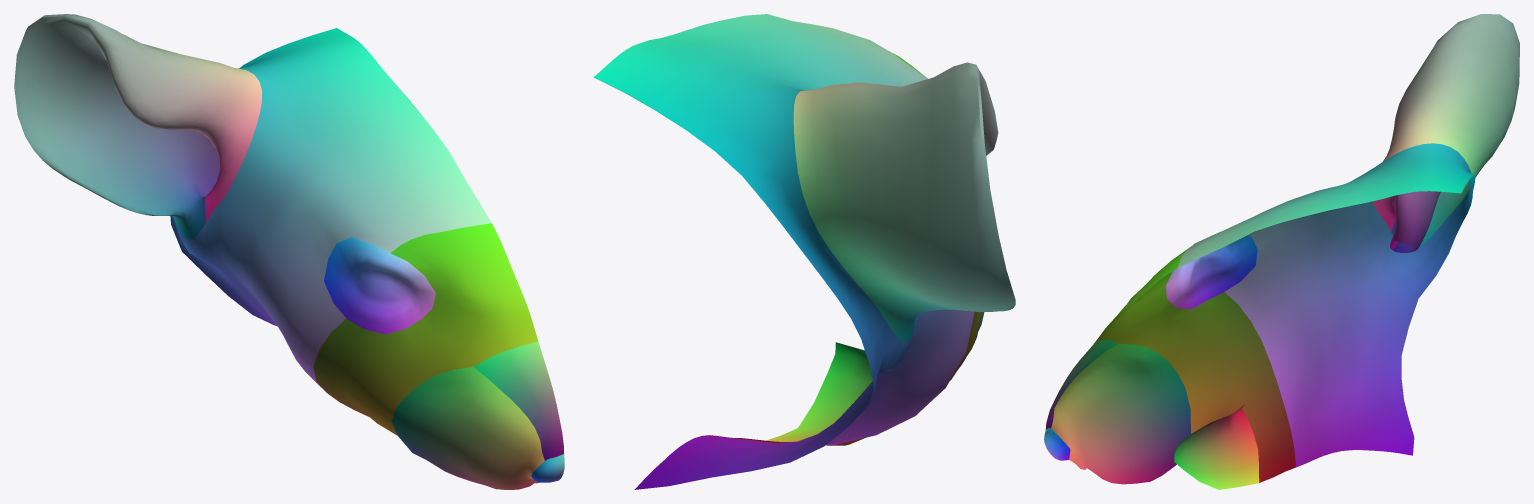
3 views of the same model, side by side, from view 1: azimuth 30°, elevation 25°; view 2: azimuth 150°, elevation 25°; view 3: azimuth 270°, elevation 25° (orthographic). The views are drawn at different scales.
Parts seen in each view (by area): view 1: face_mesh_face_class_2.001; view 2: face_mesh_face_class_2.001; view 3: face_mesh_face_class_2.001.
Part boxes in pixels (left/top/right/bottom): face_mesh_face_class_2.001: left=14, top=14, right=564, bottom=489; face_mesh_face_class_2.001: left=593, top=14, right=1015, bottom=489; face_mesh_face_class_2.001: left=1044, top=14, right=1519, bottom=489.
Bounding box in the file's own units: 0.154 × 0.1972 × 0.2362.
8 materials, 8 textured.
